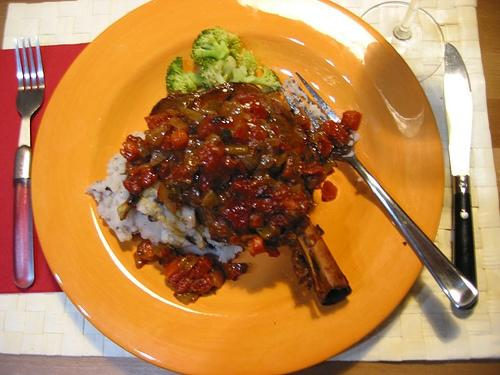broccoli: (190, 26, 244, 66), (245, 64, 283, 94), (200, 58, 228, 90), (236, 48, 258, 76), (188, 72, 202, 86)
